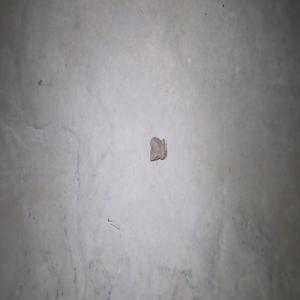Rock: (150, 134, 167, 161)
